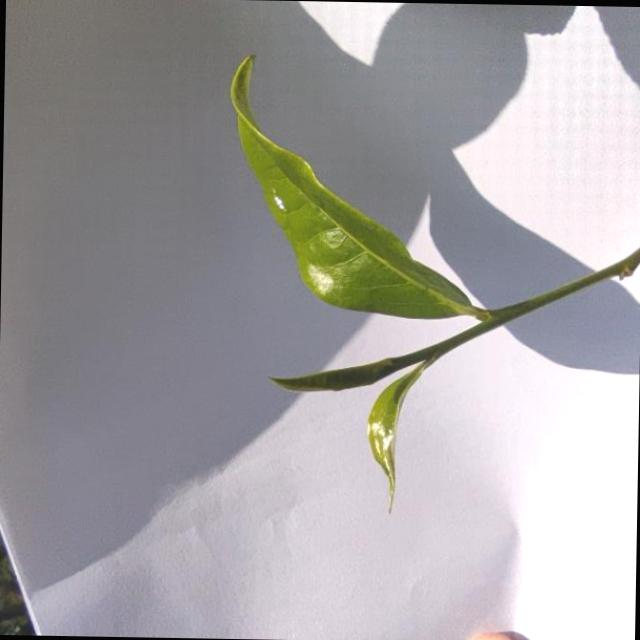Stem: (433, 338, 452, 356)
